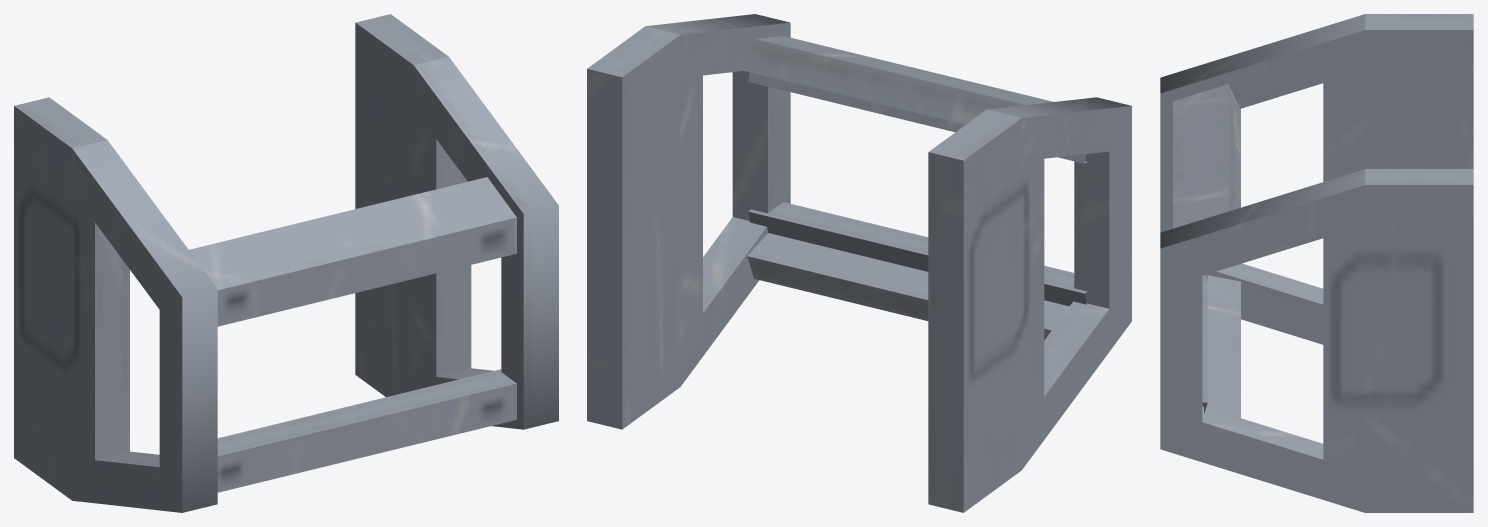
File: Pfb_Soda_ExhaustSystem1__2.fbx
The picture shows the model from 3 angles, left to right: view 1: azimuth 30°, elevation 25°; view 2: azimuth 150°, elevation 25°; view 3: azimuth 270°, elevation 25°; orthographic projection. The views are drawn at different scales.
Parts seen in each view (by area): view 1: MAT_Soda_Pipe 1; view 2: MAT_Soda_Pipe 1; view 3: MAT_Soda_Pipe 1.
Boxes of the visible parts, x1=… form: MAT_Soda_Pipe 1: x1=14, y1=14, x2=558, y2=512; MAT_Soda_Pipe 1: x1=587, y1=14, x2=1131, y2=512; MAT_Soda_Pipe 1: x1=1160, y1=14, x2=1473, y2=512.
Bounding box in the file's own units: 0.4997 × 0.4467 × 0.3867.
Materials: 1 (1 with a texture image).
